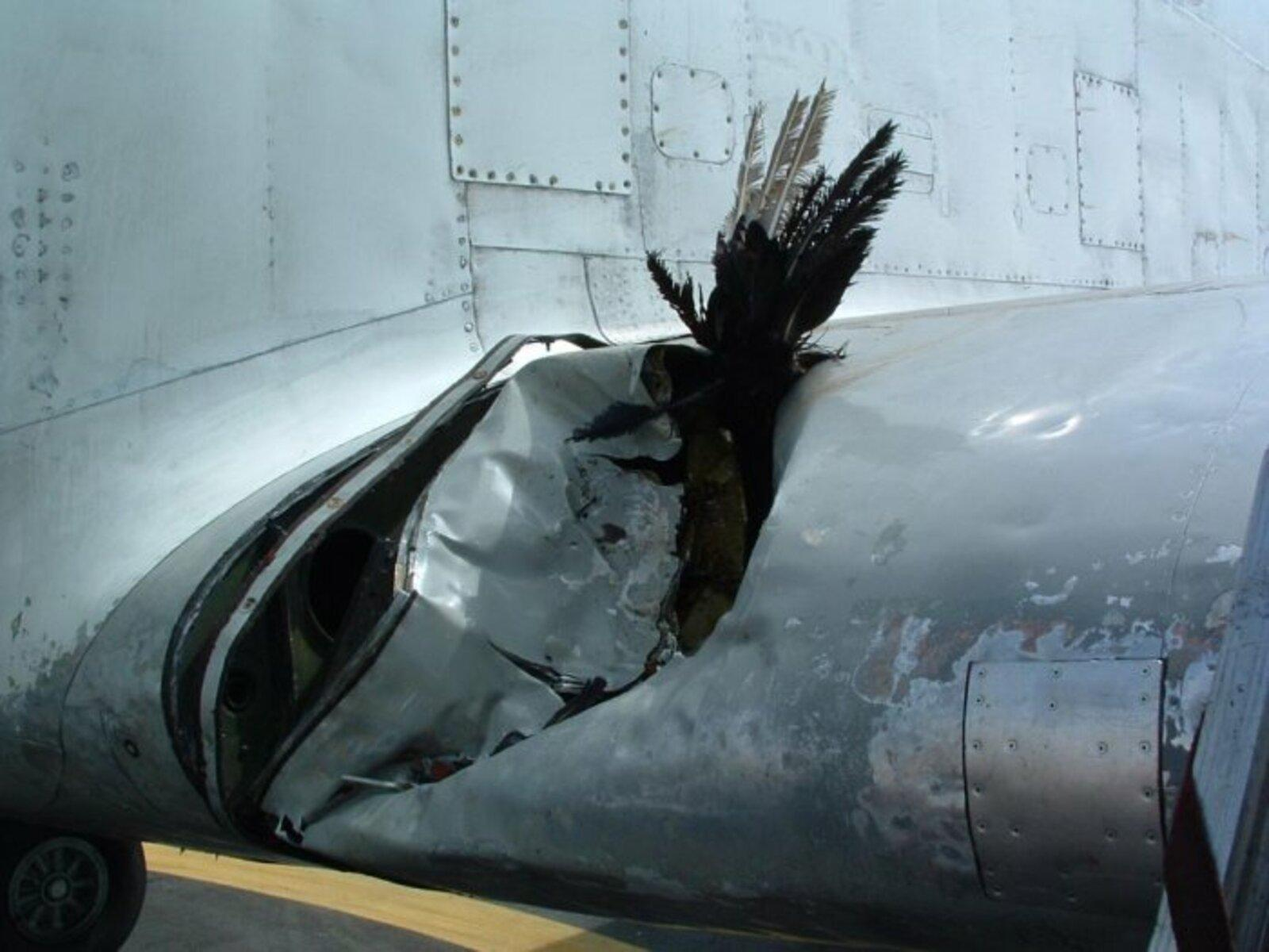Wing_damage: (161, 334, 615, 839), (262, 345, 684, 840), (614, 124, 905, 654)
